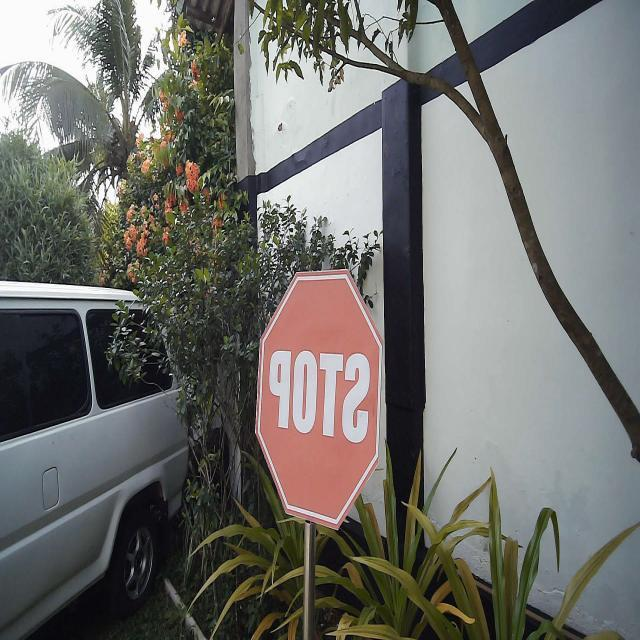stop: (252, 265, 385, 534)
